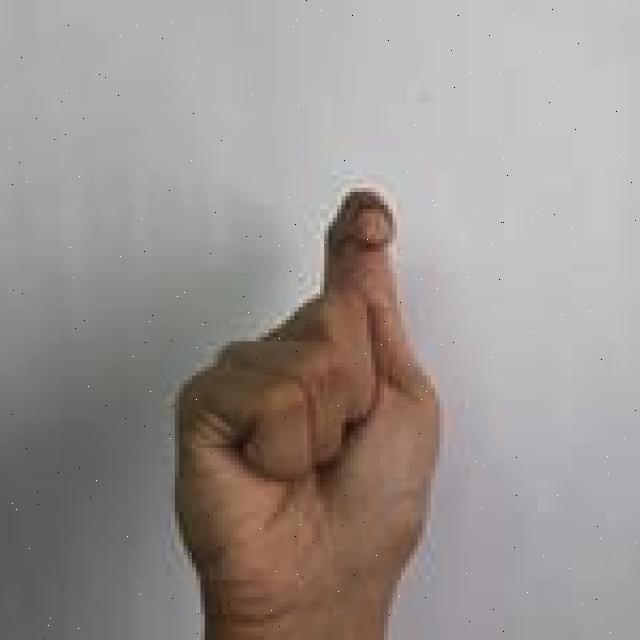T: (172, 180, 448, 640)
